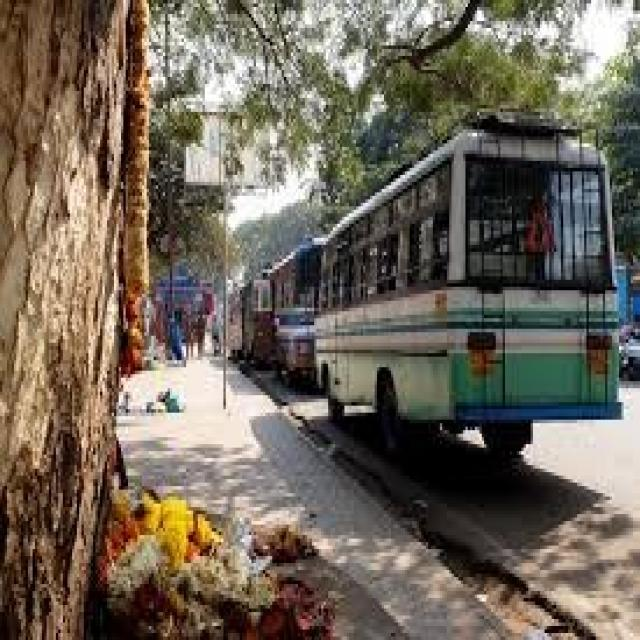bus: (314, 89, 634, 472), (258, 226, 322, 387), (224, 254, 279, 364)
